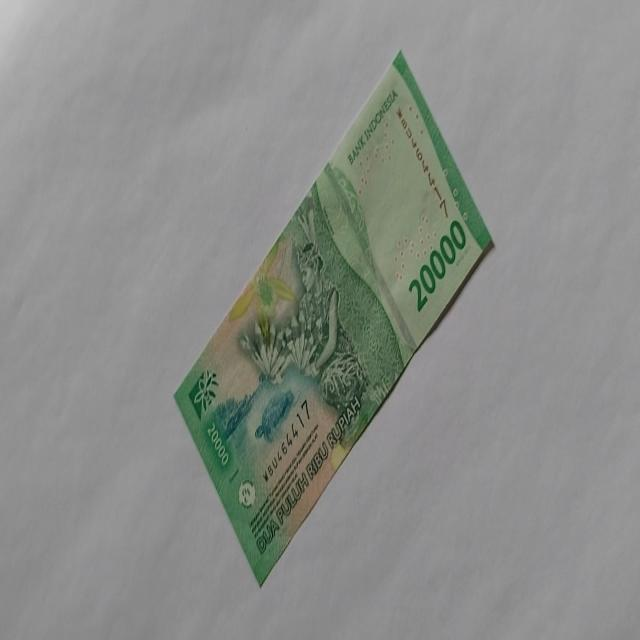dua puluh ribu rupiah: (172, 48, 495, 587), (407, 218, 467, 313)
